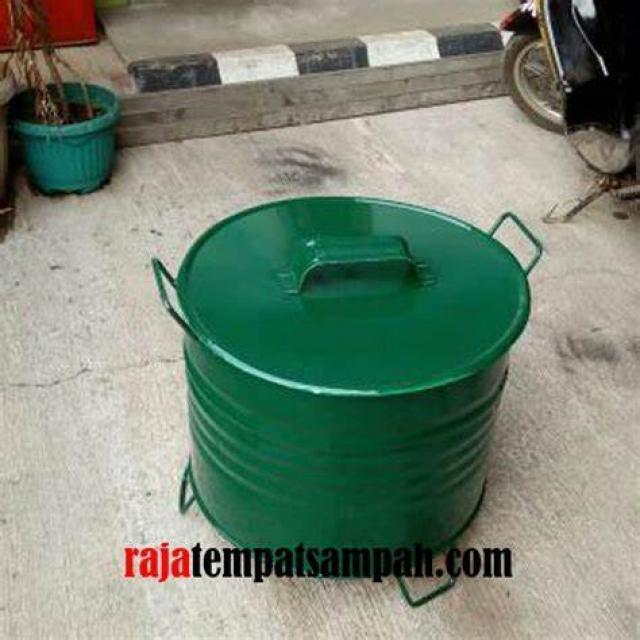garbage container: (148, 172, 583, 546)
